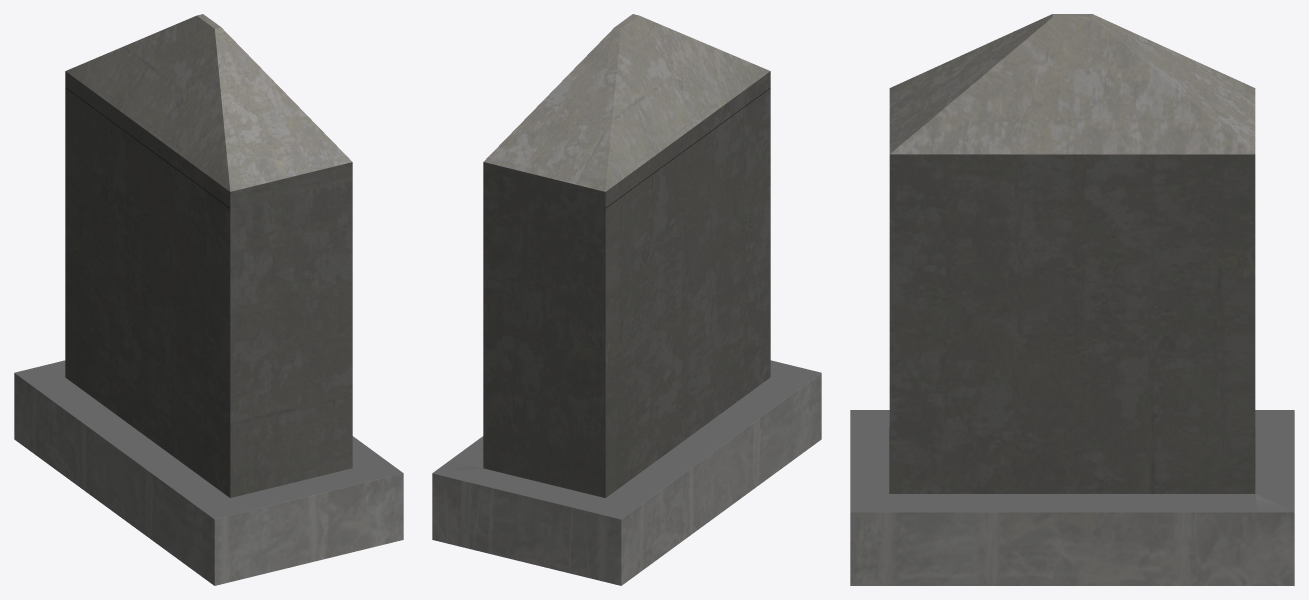
Rendered from Grave3.fbx.
3 views of the same model, side by side, from view 1: azimuth 30°, elevation 25°; view 2: azimuth 150°, elevation 25°; view 3: azimuth 270°, elevation 25° (orthographic). The views are drawn at different scales.
Visible parts, largest first — view 1: Box001; view 2: Box001; view 3: Box001.
Boxes of the visible parts, x1,y1,x2,y2 form: Box001: [14, 14, 403, 585]; Box001: [432, 14, 821, 585]; Box001: [850, 14, 1294, 585].
Bounding box in the file's own units: 36.15 × 85.47 × 66.32.
Materials: 1 (1 with a texture image).
